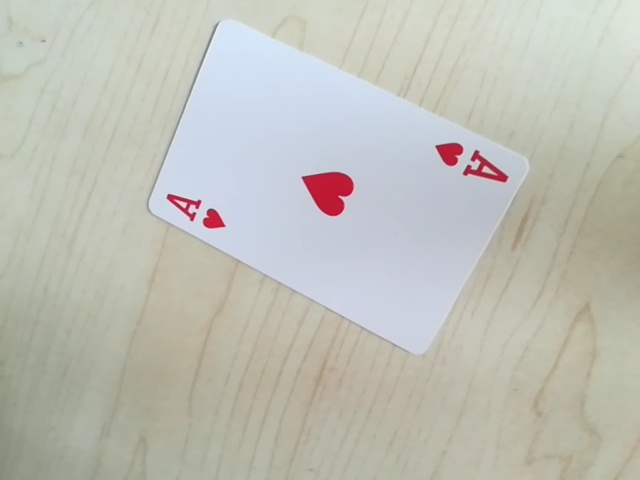hx a: (427, 135, 518, 191), (161, 185, 232, 233)
